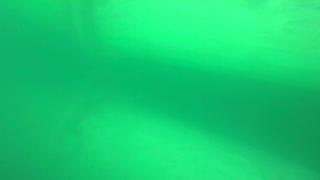pipe: (9, 79, 320, 180), (1, 1, 319, 92)
